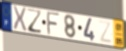4: (83, 18, 97, 43)
8: (63, 14, 77, 40)
F: (46, 11, 61, 37)
X: (12, 5, 28, 32)
Z: (26, 8, 43, 35), (98, 19, 114, 45)
